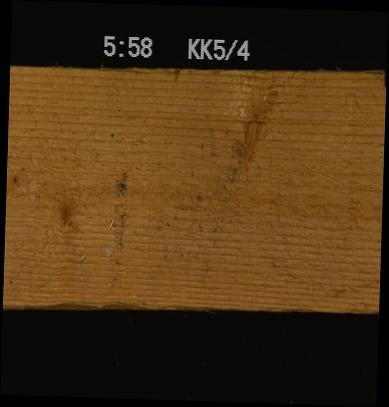small_knot: (51, 185, 82, 233), (191, 187, 205, 204), (6, 170, 21, 185)
